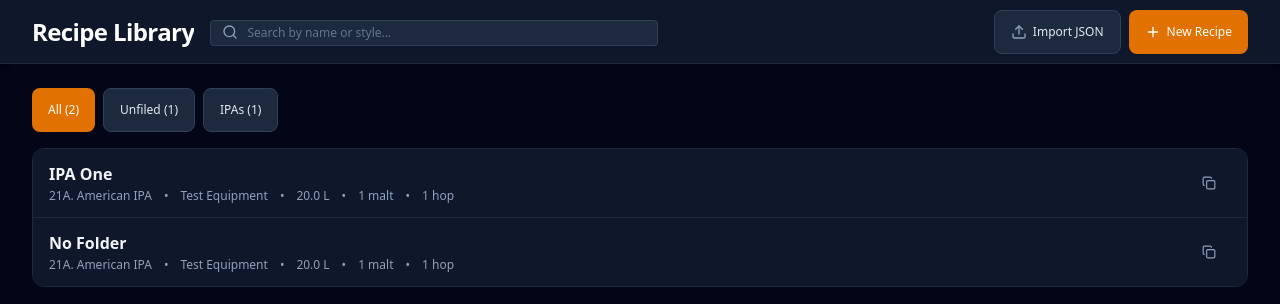
Scenario: M38_P1 AC-11/AC-12: folder tab strip › clicking the Unfiled tab shows only recipes with no folder
expect the button with test id "recipe-row-r-1" is shown: met, box [33,149,1247,218]
What coordinates should you click on to do the following:
click the tab with test id "folder-tab-__unfiled__"
I would click on:
 (149, 110)
Its box is [103,88,195,132].
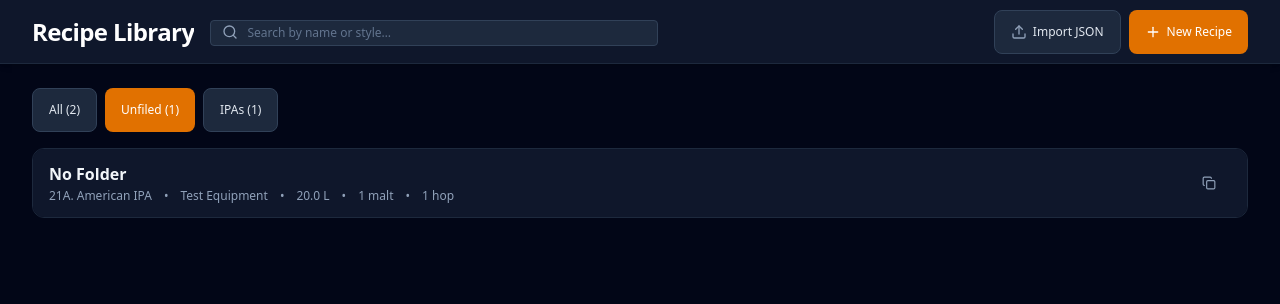
expect the button with test id "recipe-row-r-2" is shown: met, box [33,149,1247,217]
expect the button with test id "recipe-row-r-1" is gone: met
